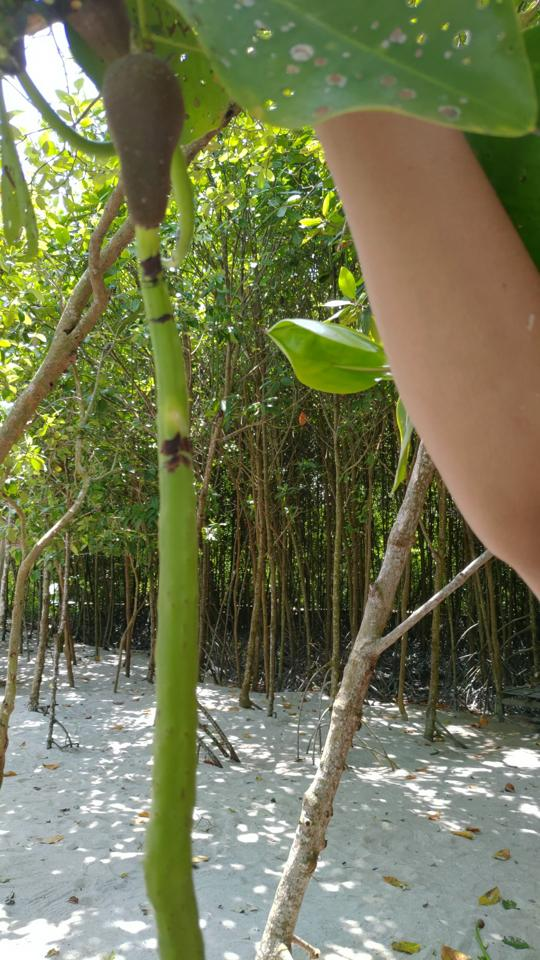setengah matang: (80, 26, 230, 958)
